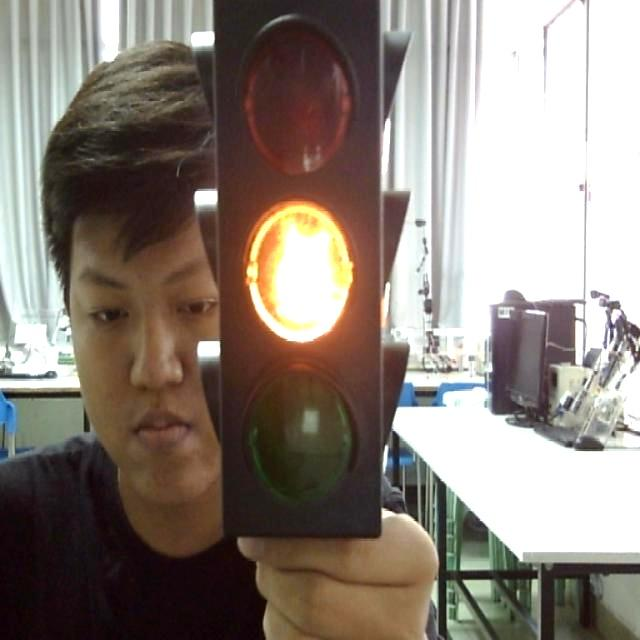Yellow: (207, 4, 394, 554)
